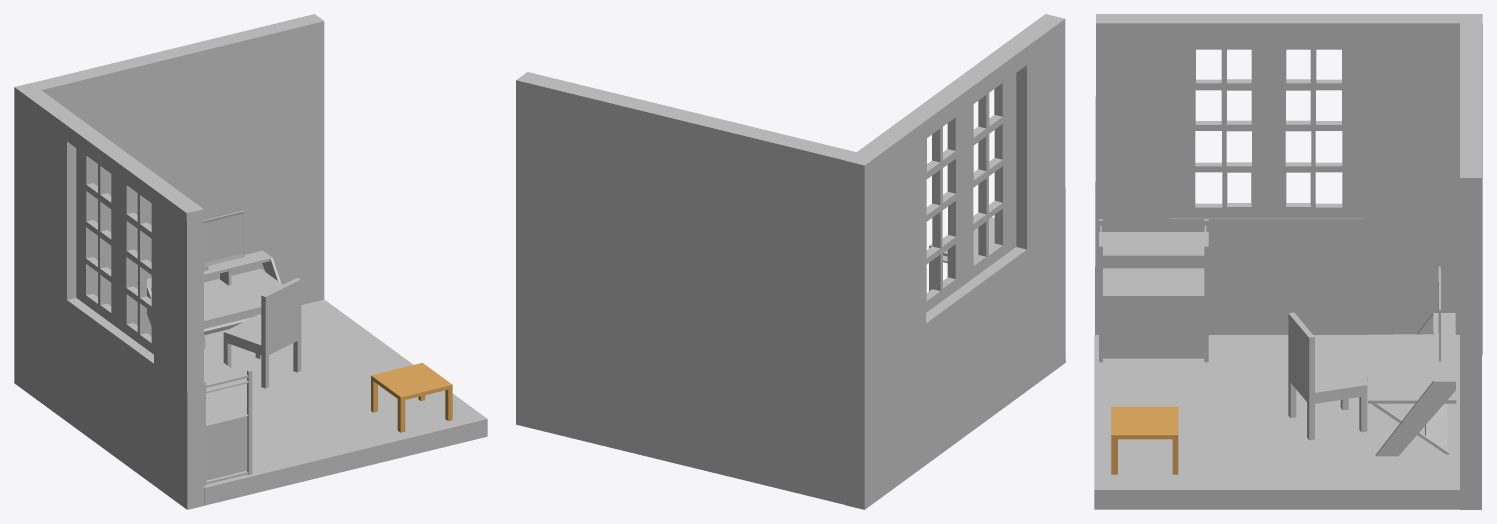
The picture shows the model from 3 angles, left to right: view 1: azimuth 30°, elevation 25°; view 2: azimuth 150°, elevation 25°; view 3: azimuth 270°, elevation 25°; orthographic projection. The views are drawn at different scales.
Parts seen in each view (by area): view 1: Cube, table_salon1.001; view 2: Cube; view 3: Cube, table_salon1.001.
Part boxes in pixels (x1=…): Cube: x1=14, y1=14, x2=487, y2=509; table_salon1.001: x1=371, y1=363, x2=452, y2=432; Cube: x1=516, y1=14, x2=1065, y2=509; Cube: x1=1094, y1=14, x2=1482, y2=509; table_salon1.001: x1=1111, y1=406, x2=1178, y2=474.
Size of what is drawn, in the model's own units: 2.12 by 2 by 2.12.
